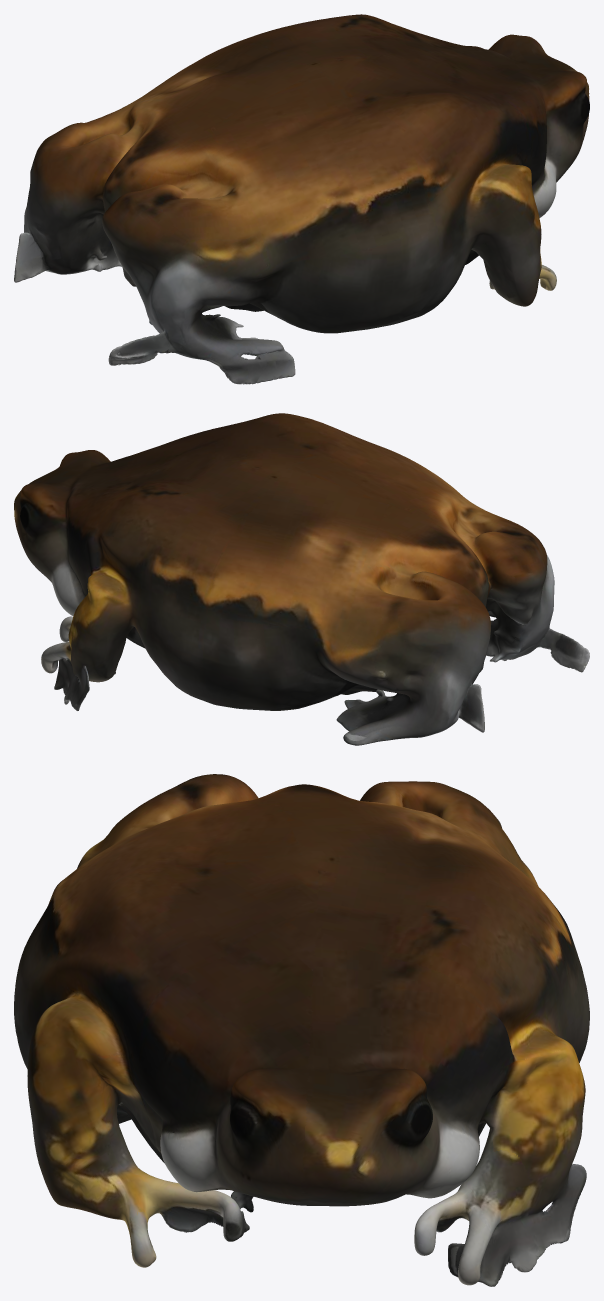
The model's file is hypopachus-variolosus.glb.
3 views of the same model, one above another, from view 1: azimuth 30°, elevation 25°; view 2: azimuth 150°, elevation 25°; view 3: azimuth 270°, elevation 25° (orthographic). The views are drawn at different scales.
Parts seen in each view (by area): view 1: tripo_node_281ba8da-215f-4dd2-a5b6-fdcf364e343e; view 2: tripo_node_281ba8da-215f-4dd2-a5b6-fdcf364e343e; view 3: tripo_node_281ba8da-215f-4dd2-a5b6-fdcf364e343e.
Part boxes in pixels (box(x1,y1,x2,y2)): tripo_node_281ba8da-215f-4dd2-a5b6-fdcf364e343e: box(14, 14, 589, 384); tripo_node_281ba8da-215f-4dd2-a5b6-fdcf364e343e: box(14, 413, 589, 745); tripo_node_281ba8da-215f-4dd2-a5b6-fdcf364e343e: box(14, 774, 589, 1286).
Bounding box in the file's own units: 1 × 0.4078 × 0.6708.
1 material, 1 textured.
